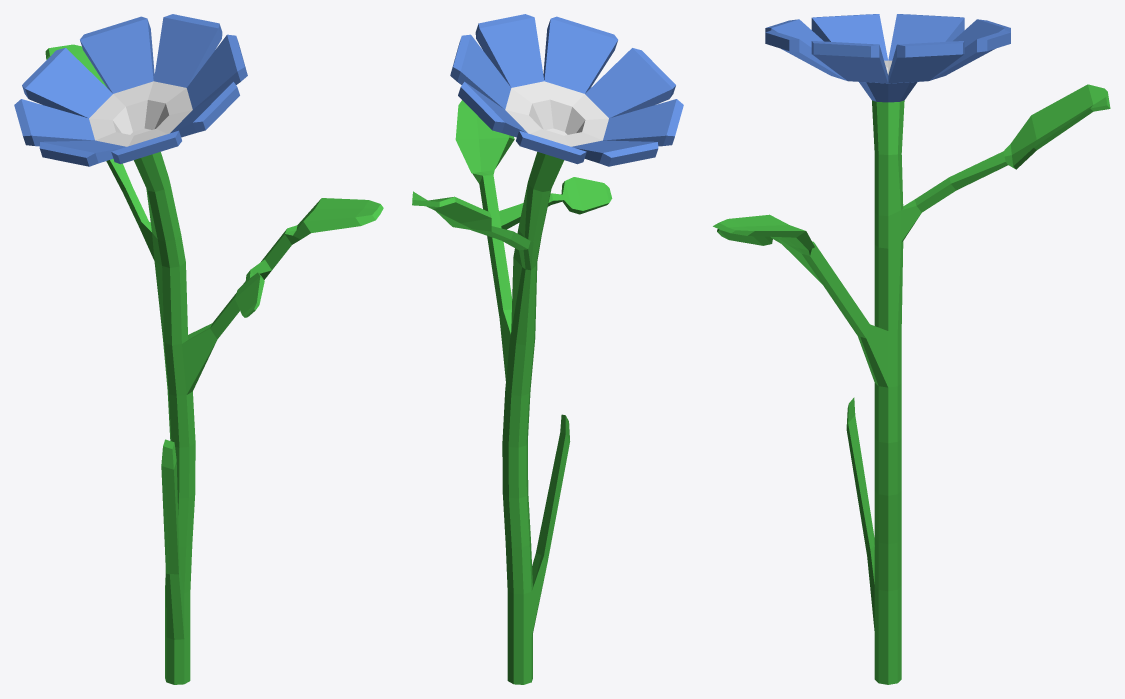
File: flower_blue.glb
The picture shows the model from 3 angles, left to right: view 1: azimuth 30°, elevation 25°; view 2: azimuth 150°, elevation 25°; view 3: azimuth 270°, elevation 25°; orthographic projection. The views are drawn at different scales.
Parts seen in each view (by area): view 1: flower3; view 2: flower3; view 3: flower3.
Boxes of the visible parts, box(x1,y1,x2,y2) form: flower3: box(14, 14, 383, 684); flower3: box(412, 14, 683, 684); flower3: box(713, 14, 1110, 684).
Size of the model in its own units: 0.4038 by 0.8903 by 0.4879.
